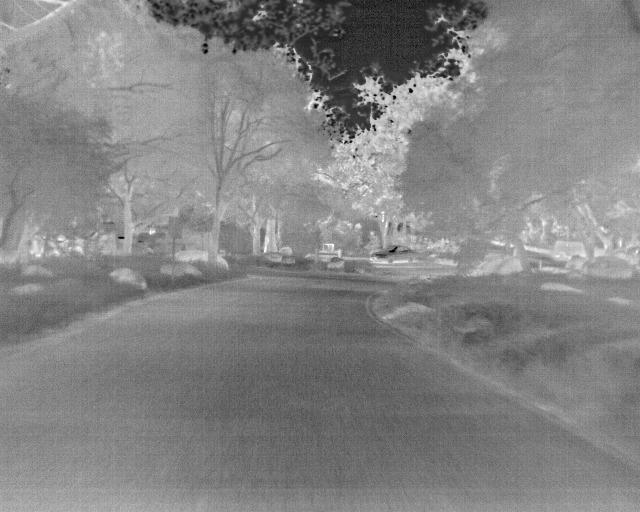car: (371, 245, 416, 265)
